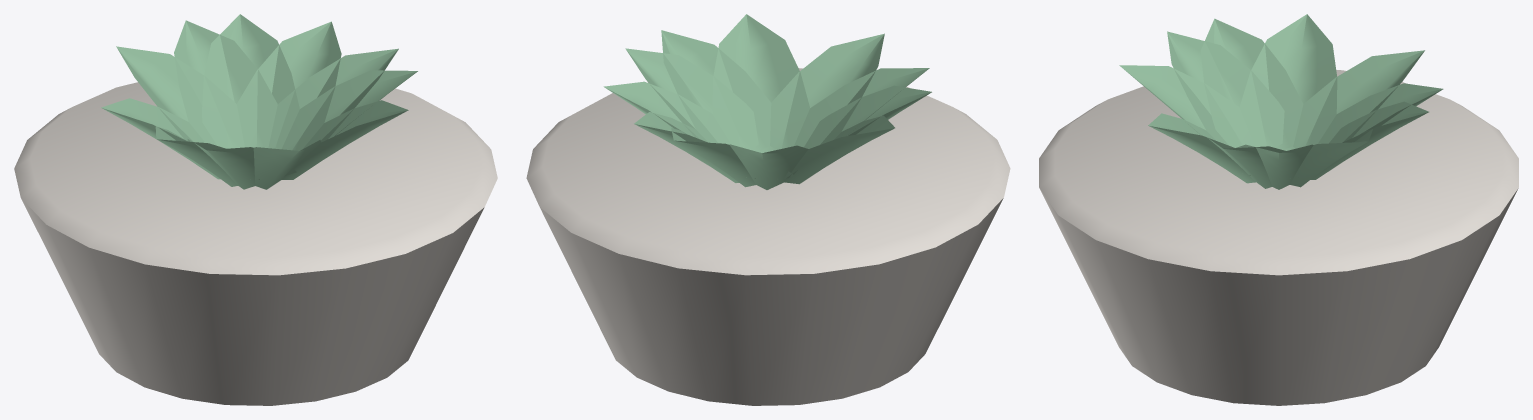
The model's file is succulent_windowsill.fbx.
3 views of the same model, side by side, from view 1: azimuth 30°, elevation 25°; view 2: azimuth 150°, elevation 25°; view 3: azimuth 270°, elevation 25° (orthographic).
Parts seen in each view (by area): view 1: succulent_windowsill; view 2: succulent_windowsill; view 3: succulent_windowsill.
Boxes of the visible parts, <box> form: succulent_windowsill: <box>14,14,497,405</box>; succulent_windowsill: <box>526,14,1010,405</box>; succulent_windowsill: <box>1039,14,1518,405</box>.
Size of the model in its own units: 0.12 by 0.0696 by 0.1188.
